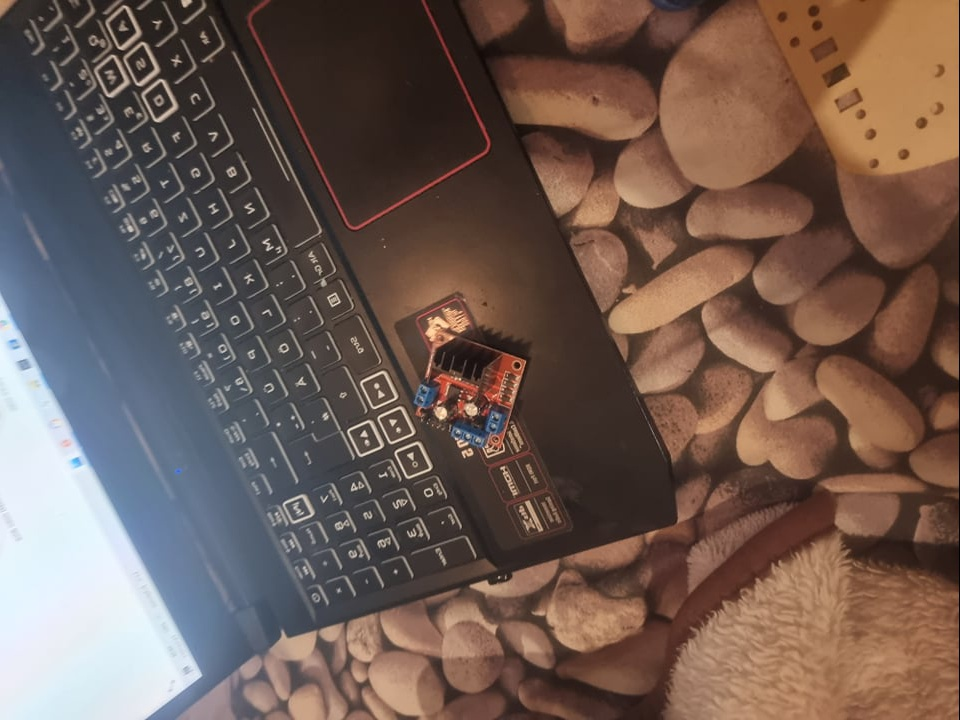MOTOR: (411, 324, 531, 455)
